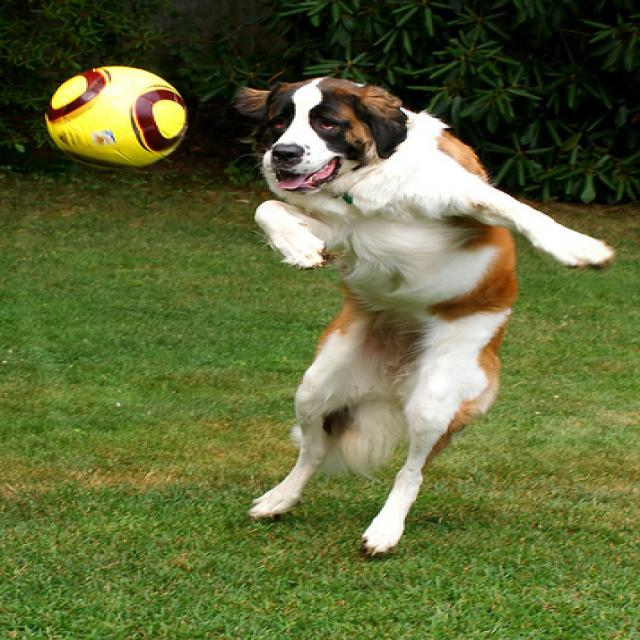dog-saint_bernard: (217, 72, 627, 564)
